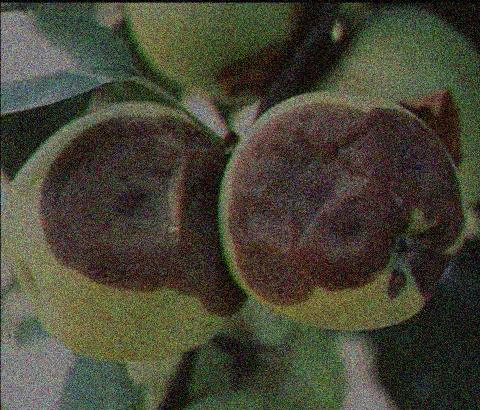rotten apple: (0, 92, 241, 371), (228, 85, 477, 334)
